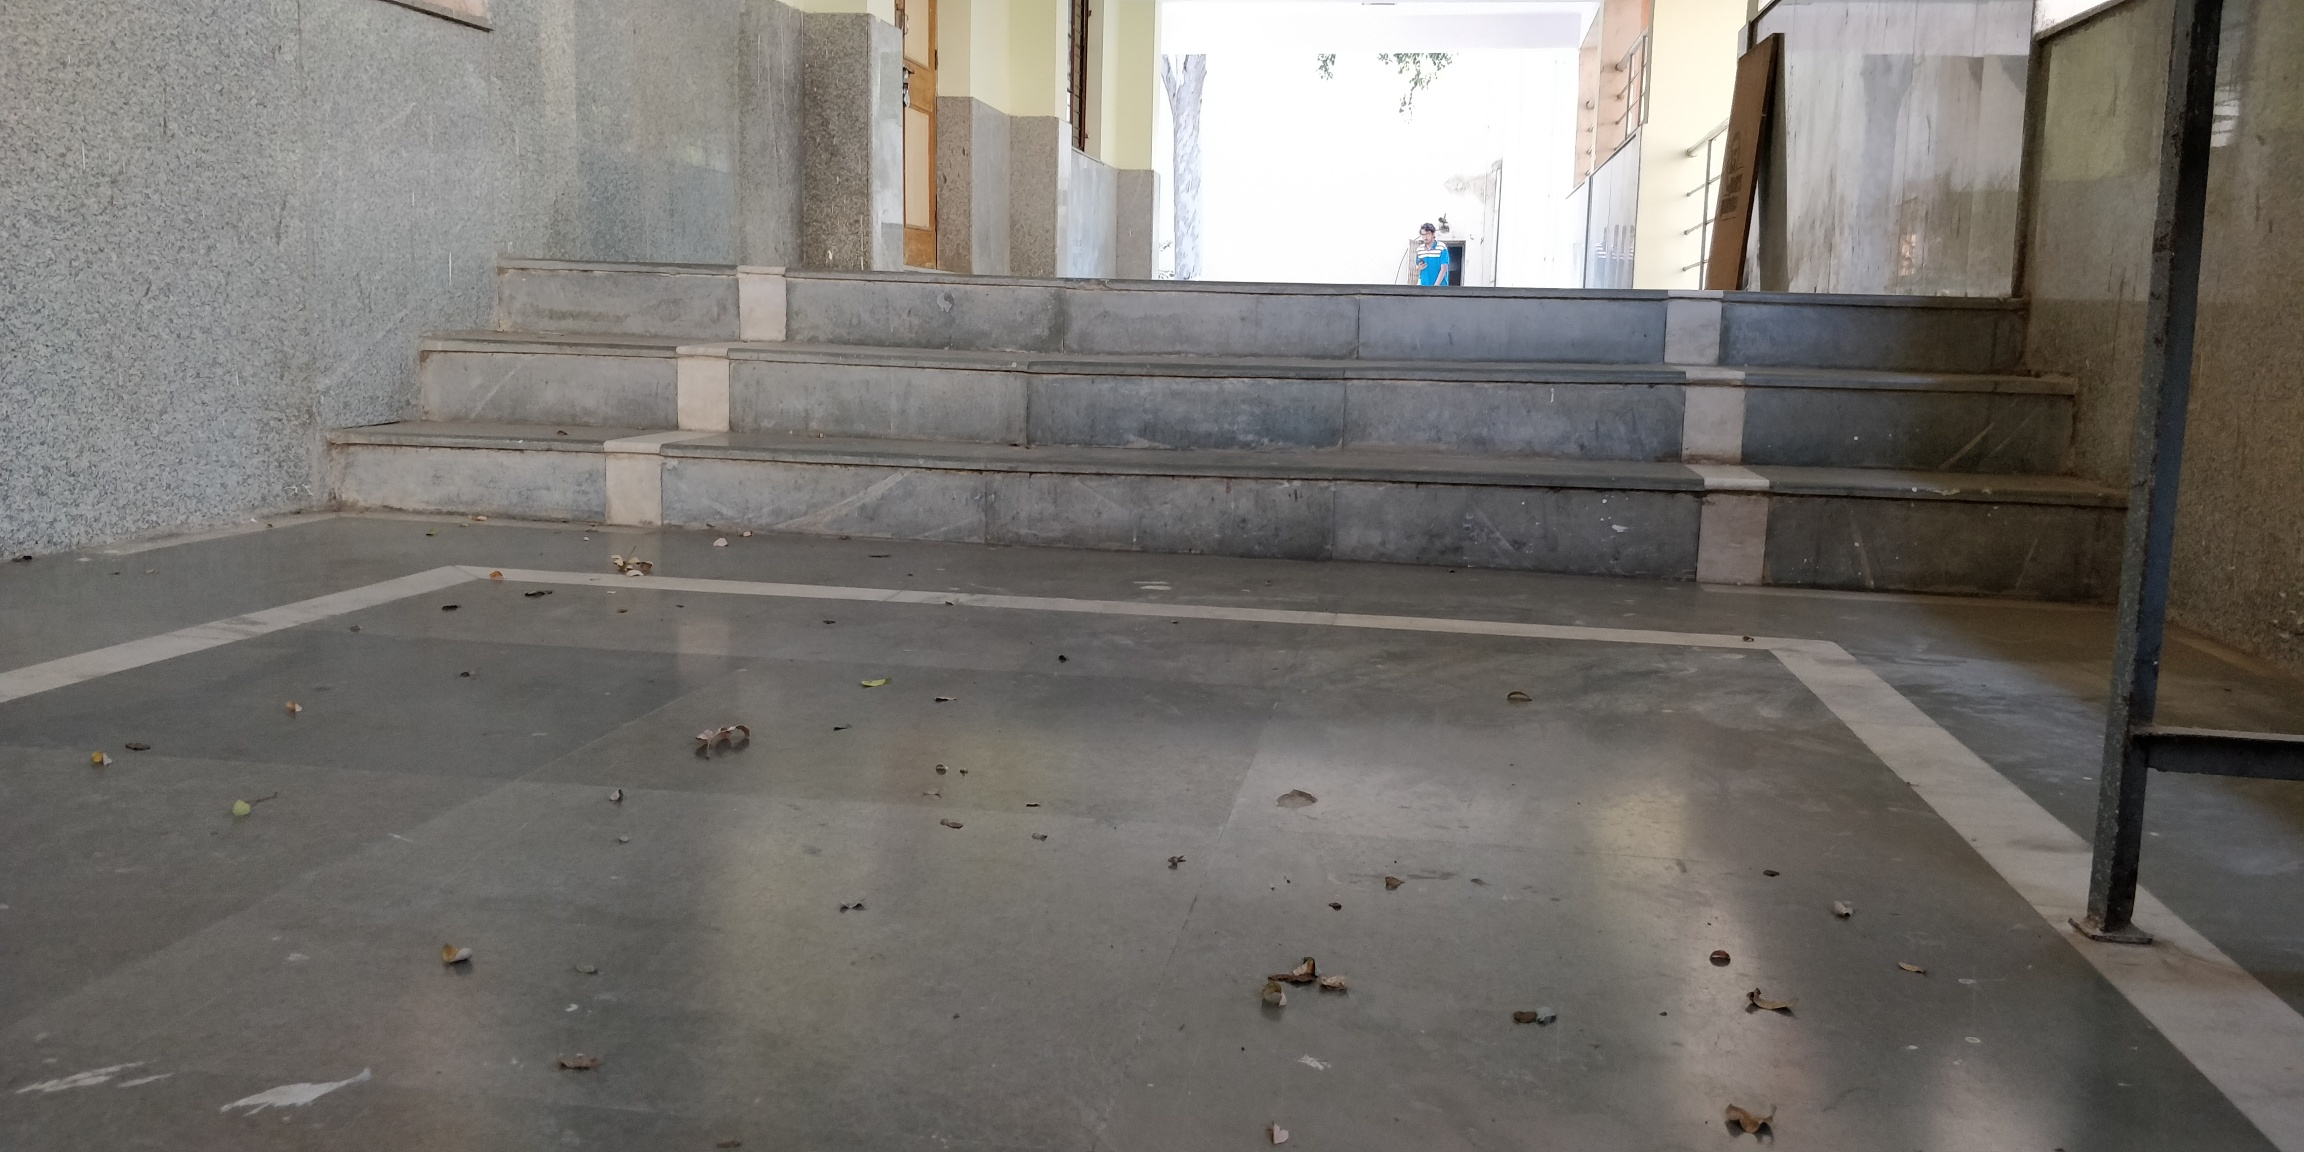stairs_up: (240, 267, 2098, 563)
